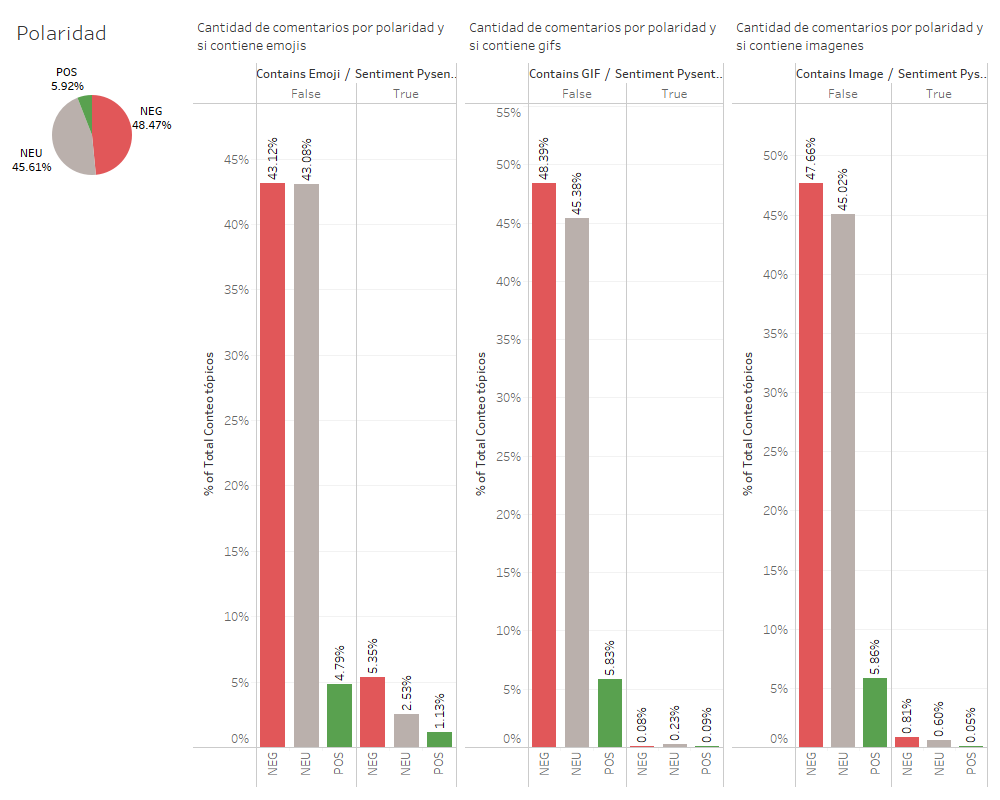

The page's visual inventory and layout, read from the dashboard file:
{"tool":"tableau","page":{"name":"Mecanismos de interacción","canvas":[1000,800],"ordinal":2},"visuals":[{"type":"worksheet","title":"Polaridad","mark":"Pie","box":[8,8,181,211]},{"type":"worksheet","title":"Cantidad de comentarios por polaridad y si contiene emojis","mark":"Automatic","rows":["Calculation_207447100637257730"],"cols":["Contains_Emoji","Sentiment_Pysentimento"],"box":[189,8,272,784]},{"type":"worksheet","title":"Cantidad de comentarios por polaridad y si contiene gifs","mark":"Automatic","rows":["Calculation_207447100637257730"],"cols":["Contains_GIF","Sentiment_Pysentimento"],"box":[461,8,267,784]},{"type":"worksheet","title":"Cantidad de comentarios por polaridad y si contiene imagenes","mark":"Automatic","rows":["Calculation_207447100637257730"],"cols":["Contains_Image","Sentiment_Pysentimento"],"box":[728,8,264,784]}]}

Visuals, with their boxes in screenshot pixels (x1, y1, x2, y2), scaled from the page's 1000x800 canvas onto the 1000x800 screenshot:
"Polaridad" worksheet (Pie marks): box(8, 8, 189, 219)
"Cantidad de comentarios por polaridad y si contiene emojis" worksheet: box(189, 8, 461, 792)
"Cantidad de comentarios por polaridad y si contiene gifs" worksheet: box(461, 8, 728, 792)
"Cantidad de comentarios por polaridad y si contiene imagenes" worksheet: box(728, 8, 992, 792)
